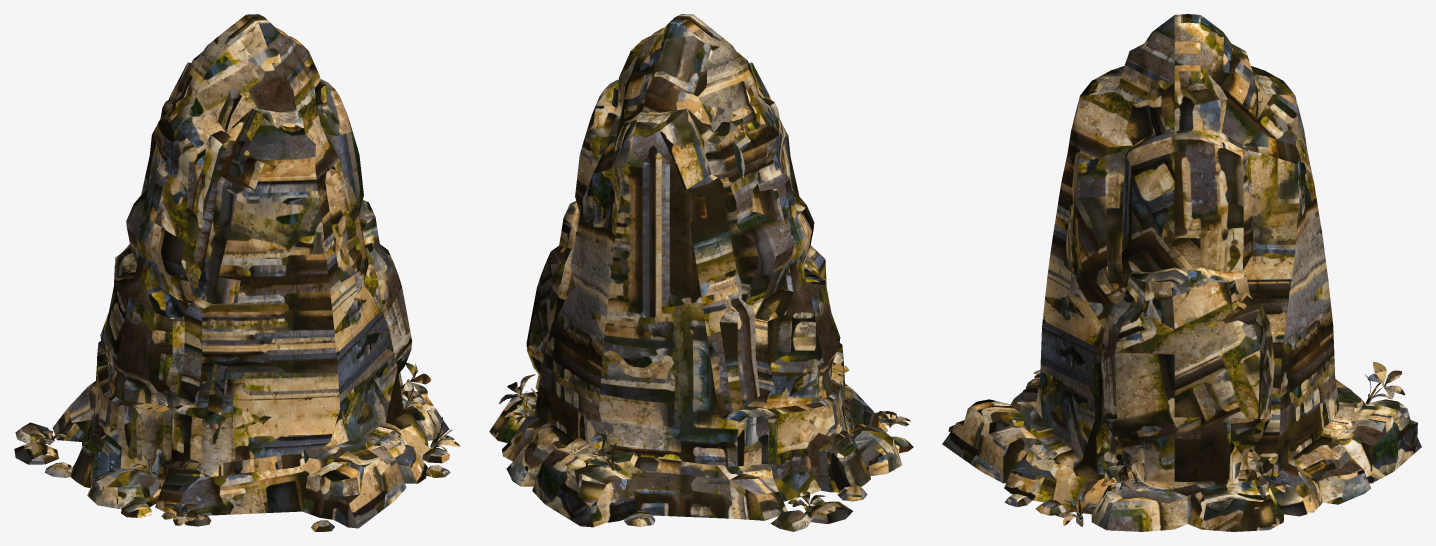
The model's file is stone+monument+3d+model(1).fbx.
The picture shows the model from 3 angles, left to right: view 1: azimuth 30°, elevation 25°; view 2: azimuth 150°, elevation 25°; view 3: azimuth 270°, elevation 25°; orthographic projection. The views are drawn at different scales.
Visible parts, largest first — view 1: f3970b6b_d298_493f_be28_857647e3f6d0; view 2: f3970b6b_d298_493f_be28_857647e3f6d0; view 3: f3970b6b_d298_493f_be28_857647e3f6d0.
Part boxes in pixels (x1=…): f3970b6b_d298_493f_be28_857647e3f6d0: x1=14, y1=14, x2=460, y2=531; f3970b6b_d298_493f_be28_857647e3f6d0: x1=489, y1=14, x2=913, y2=531; f3970b6b_d298_493f_be28_857647e3f6d0: x1=942, y1=14, x2=1421, y2=531.
Bounding box in the file's own units: 0.8843 × 0.9995 × 0.9888.
